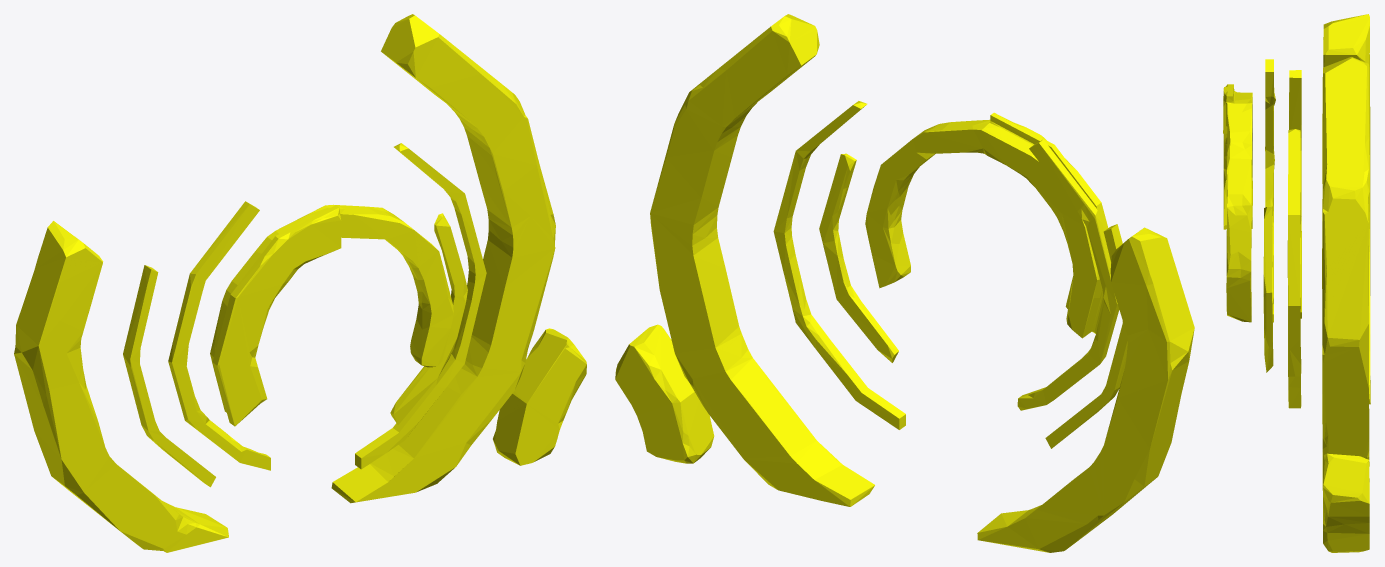
File: Portal_05.glb
3 views of the same model, side by side, from view 1: azimuth 30°, elevation 25°; view 2: azimuth 150°, elevation 25°; view 3: azimuth 270°, elevation 25° (orthographic). The views are drawn at different scales.
Parts seen in each view (by area): view 1: Portal_05; view 2: Portal_05; view 3: Portal_05.
Boxes of the visible parts, x1,y1,x2,y2 form: Portal_05: (14,14,586,552); Portal_05: (615,14,1194,552); Portal_05: (1223,14,1370,552).
Bounding box in the file's own units: 8.84 × 6.99 × 2.13.
Materials: 1 (1 with a texture image).
